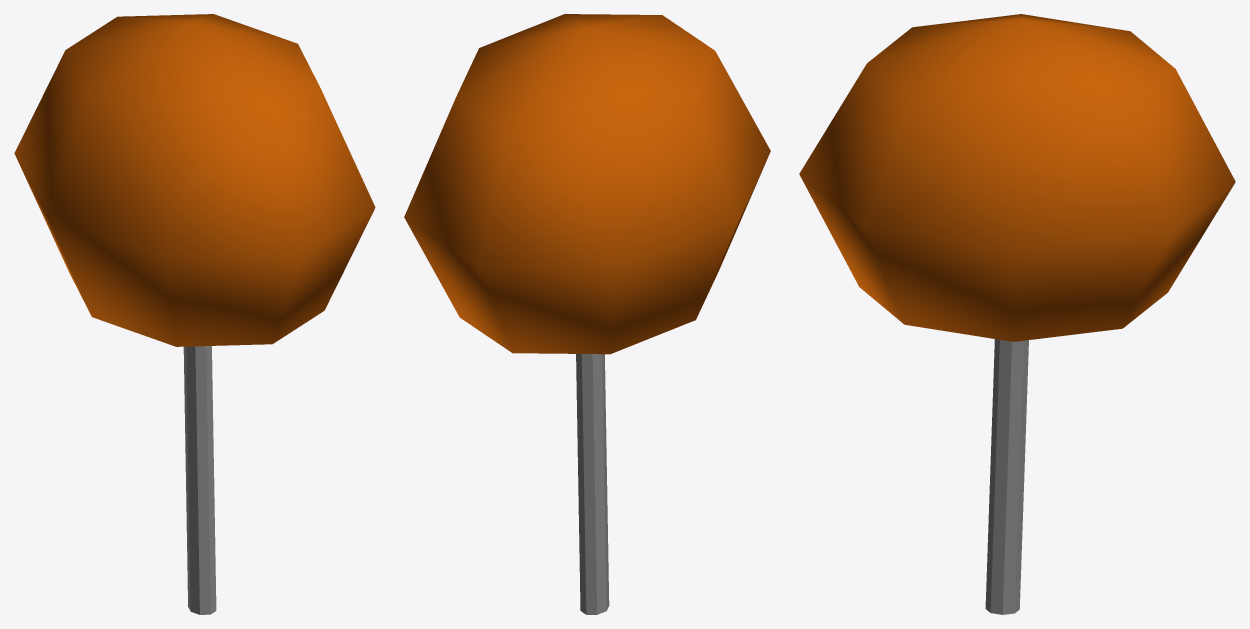
File: MOD_BalloonD.FBX
3 renders of one model, left to right at view 1: azimuth 30°, elevation 25°; view 2: azimuth 150°, elevation 25°; view 3: azimuth 270°, elevation 25°, orthographic.
Visible parts, largest first — view 1: Sphere004; view 2: Sphere004; view 3: Sphere004.
Boxes of the visible parts, <box> form: Sphere004: <box>14,14,375,614</box>; Sphere004: <box>404,14,770,614</box>; Sphere004: <box>799,14,1235,614</box>.
Size of the model in its own units: 18.5 by 34.48 by 23.14.
